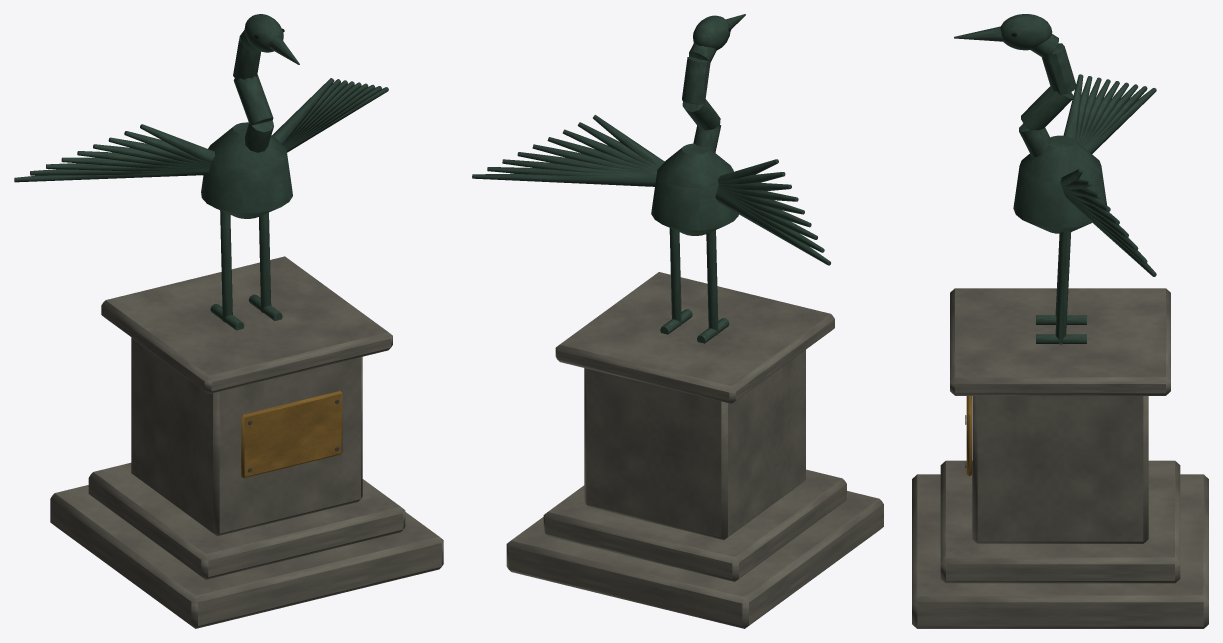
File: level_camp_heron_memorial_refined.glb
3 views of the same model, side by side, from view 1: azimuth 30°, elevation 25°; view 2: azimuth 150°, elevation 25°; view 3: azimuth 270°, elevation 25° (orthographic). The views are drawn at different scales.
Parts seen in each view (by area): view 1: level_camp_heron_memorial_refined; view 2: level_camp_heron_memorial_refined; view 3: level_camp_heron_memorial_refined.
Part boxes in pixels (x1,y1,x2,y2): level_camp_heron_memorial_refined: (14,14,443,628); level_camp_heron_memorial_refined: (472,14,883,628); level_camp_heron_memorial_refined: (912,14,1208,628).
Bounding box in the file's own units: 2.15 × 2.98 × 1.45.
5 materials, 5 textured.
